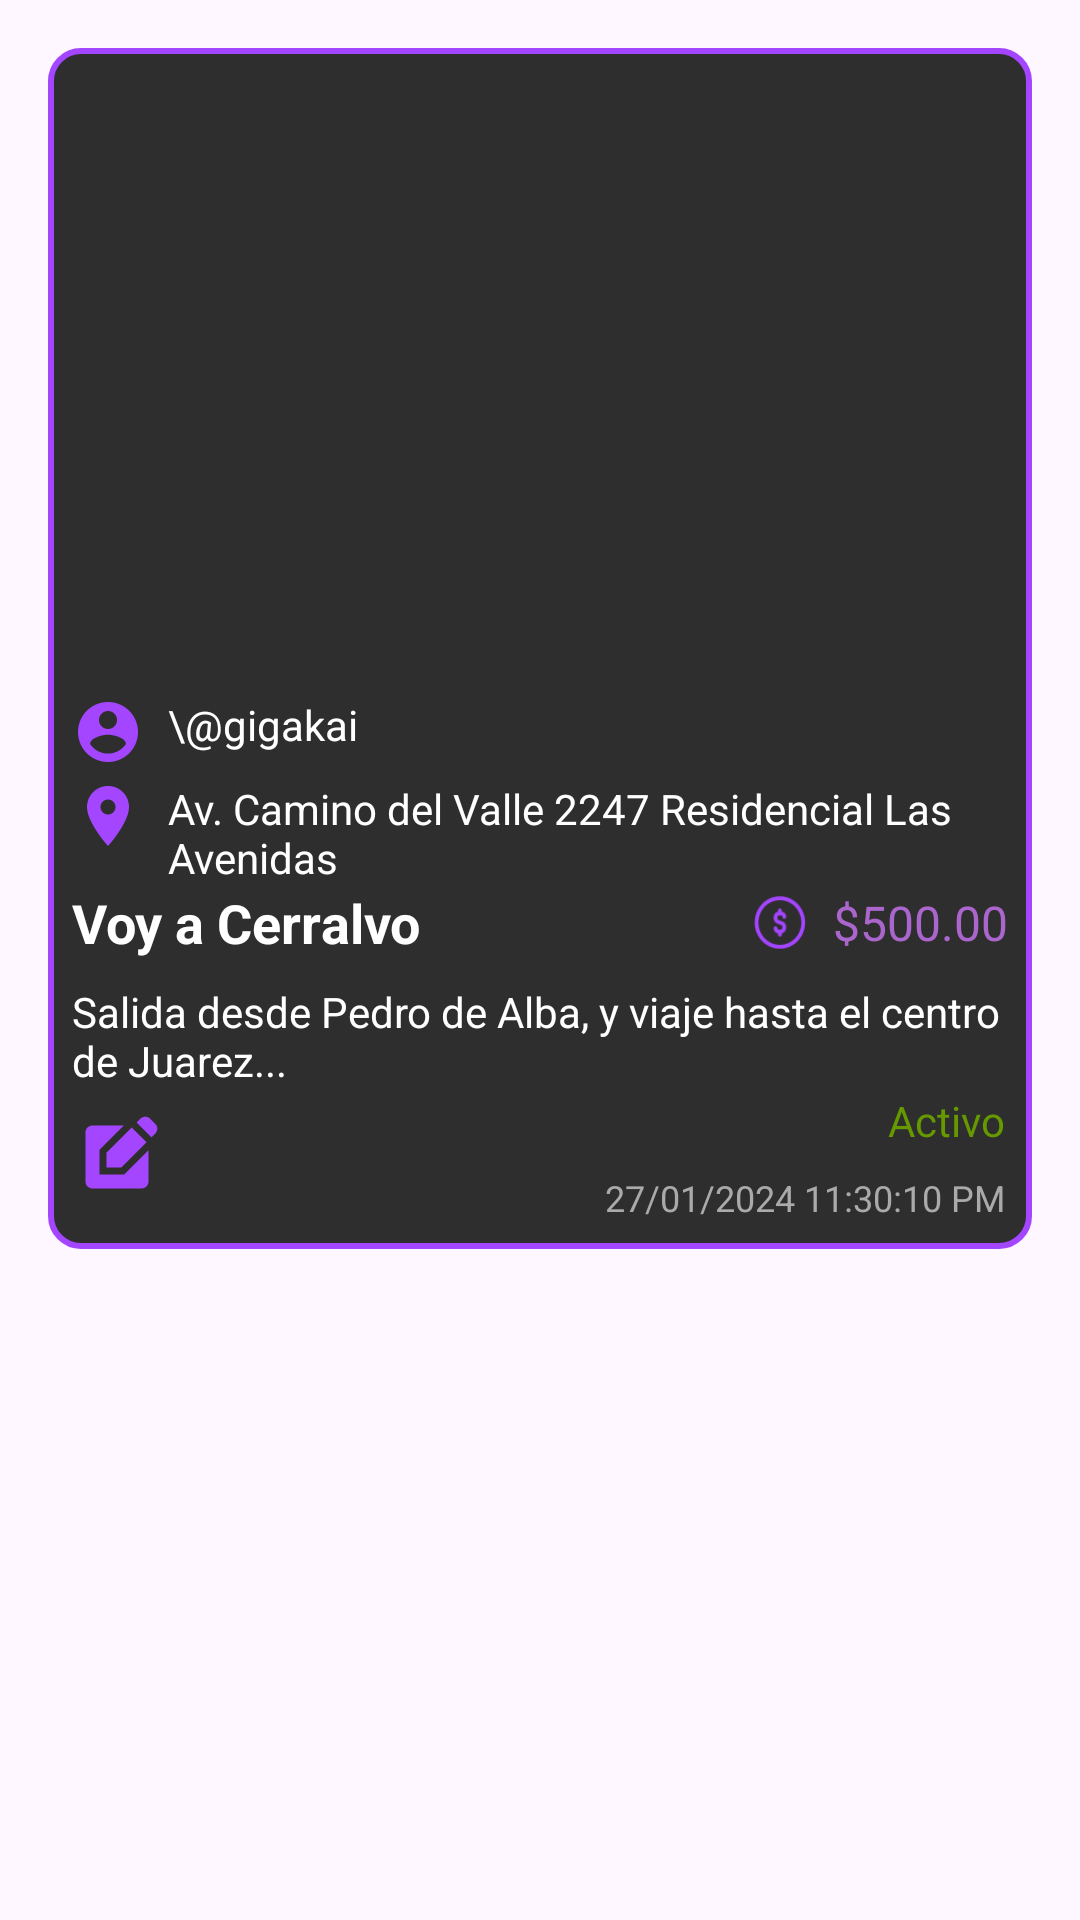

Locate icon controls on the screen. Image size 1080w x 1920h, boxes as rect(x1, y1, x2, y2).
account circle: rect(78, 702, 138, 762)
dollar circle: rect(754, 896, 806, 949)
edit square: rect(85, 1116, 158, 1189)
location on: rect(87, 786, 129, 846)
